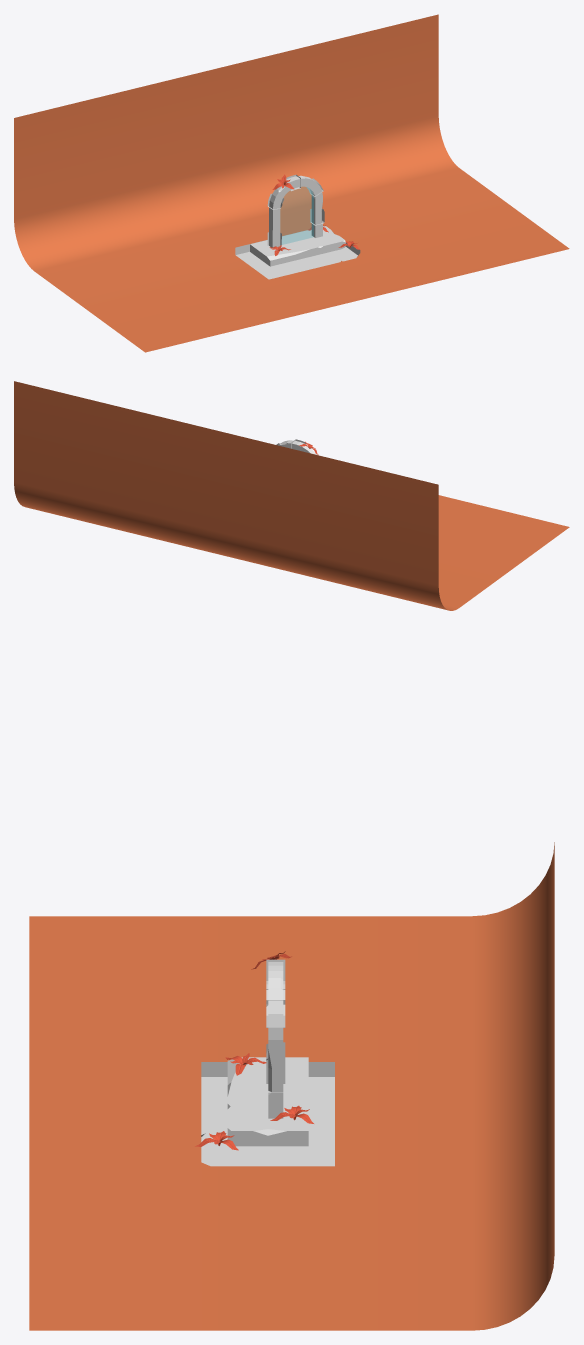
Rendered from PortalWithBackground.glb.
3 views of the same model, one above another, from view 1: azimuth 30°, elevation 25°; view 2: azimuth 150°, elevation 25°; view 3: azimuth 270°, elevation 25° (orthographic). The views are drawn at different scales.
Visible parts, largest first — view 1: Plane.001, Plane.002, Plane; view 2: Plane.001; view 3: Plane.001, Plane.002, Plane.006.
Part boxes in pixels (x1=…): Plane.001: x1=14, y1=14, x2=569, y2=352; Plane.002: x1=235, y1=174, x2=360, y2=279; Plane: x1=280, y1=187, x2=313, y2=244; Plane.001: x1=14, y1=381, x2=569, y2=610; Plane.001: x1=29, y1=842, x2=554, y2=1330; Plane.002: x1=201, y1=959, x2=334, y2=1166; Plane.006: x1=195, y1=951, x2=313, y2=1150.
Bounding box in the file's own units: 24.27 × 7.56 × 12.99.
